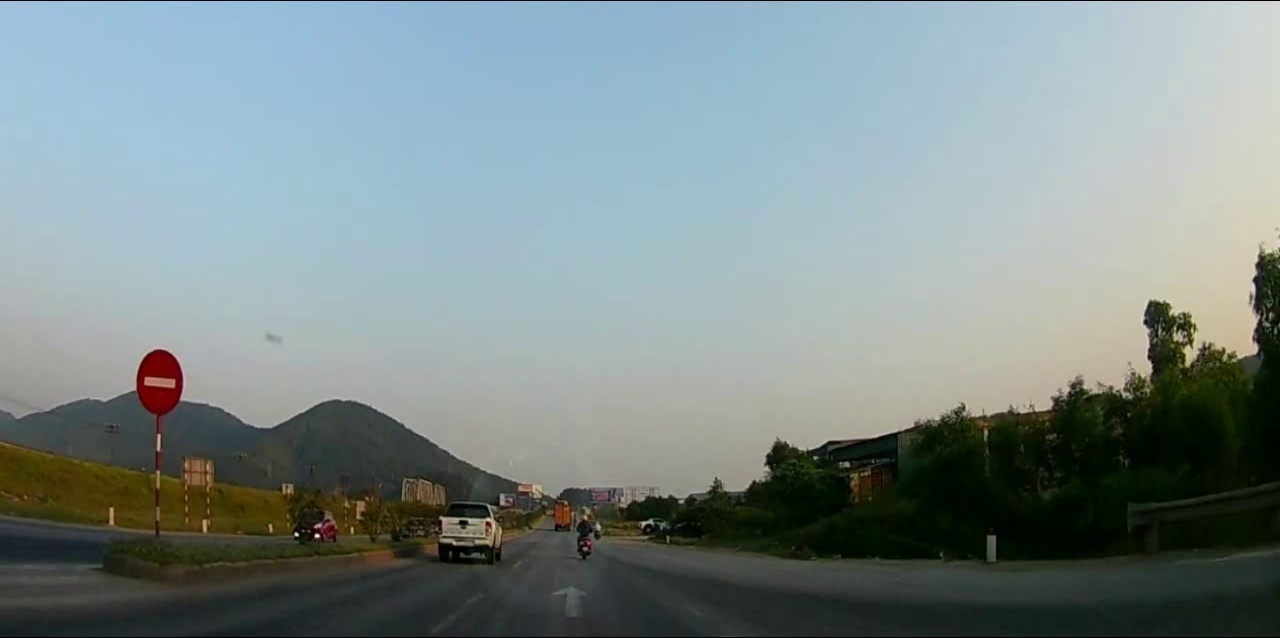Cam di nguoc chieu: (137, 349, 182, 416)
